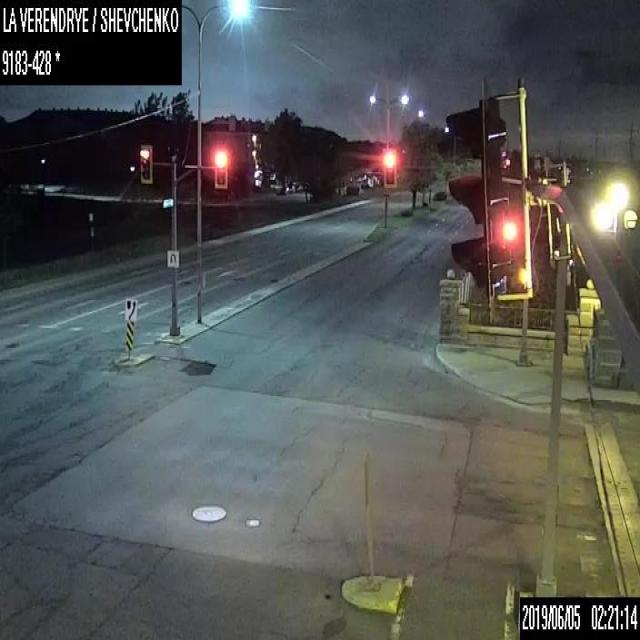vehicle: (279, 185, 288, 194), (294, 182, 302, 191), (288, 182, 294, 193)
